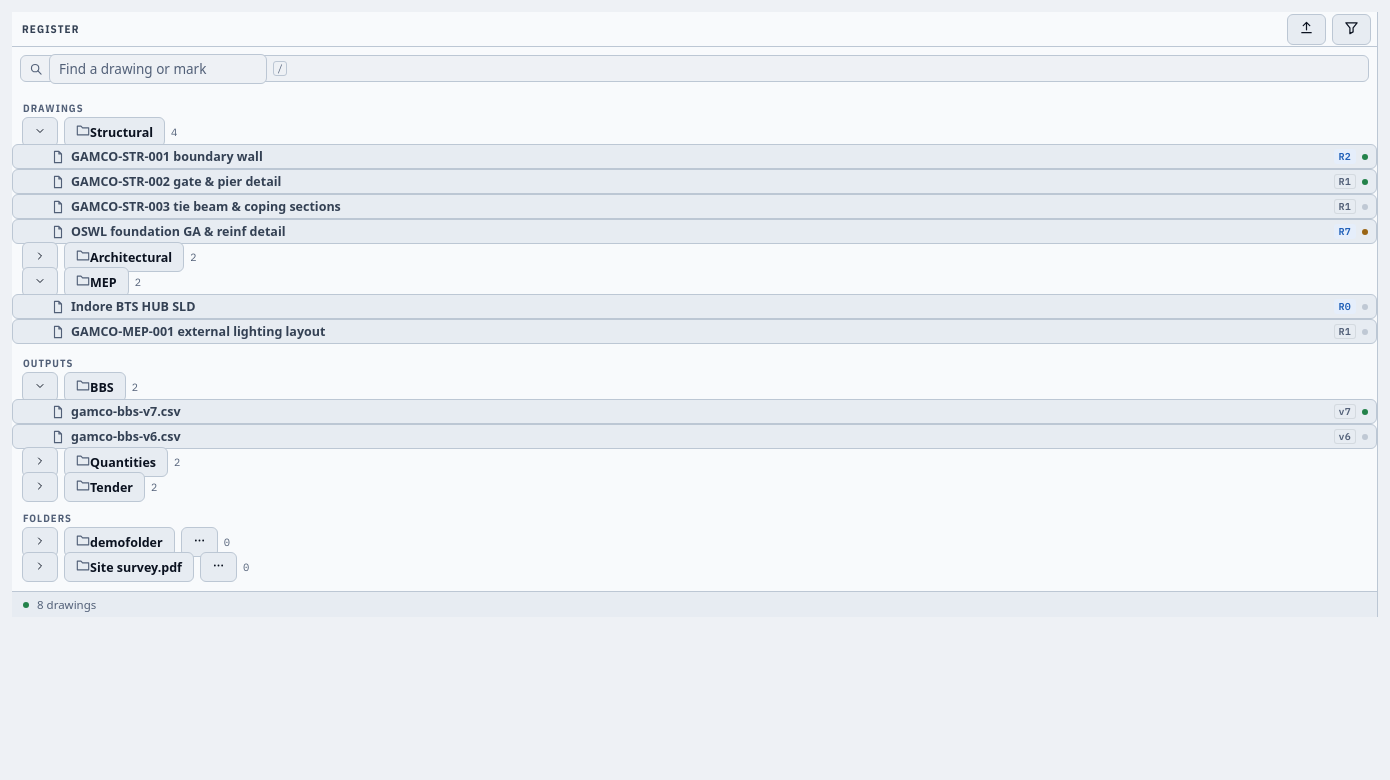
the folder row menu › opening the menu does not walk into the folder
What coordinates should you click on to do the following:
click the button with test id "folder-menu-uf_demo"
I would click on:
 (199, 542)
Its box is left=181, top=526, right=218, bottom=556.
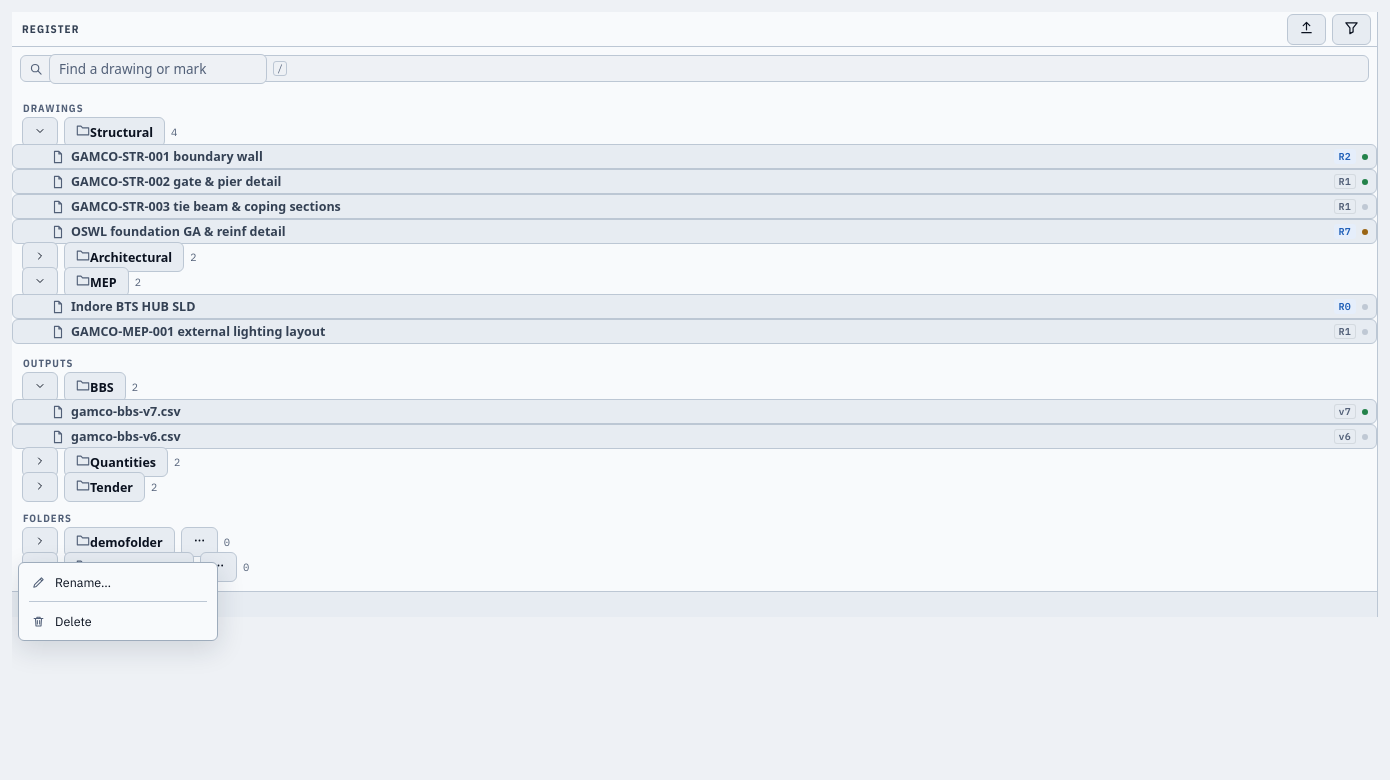
Check: the menu item "Rename…" is shown, box left=23, top=567, right=213, bottom=597
